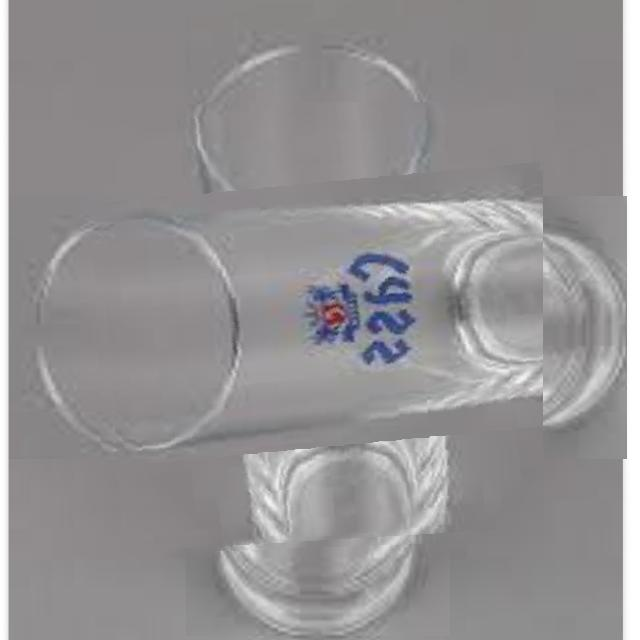recyclable: (93, 102, 543, 552)
